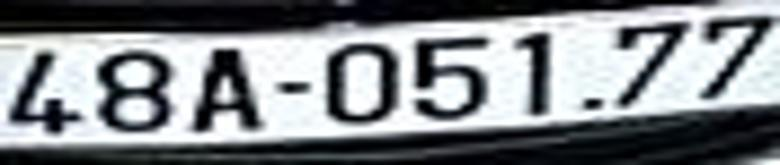-: (275, 82, 309, 93)
.: (586, 99, 602, 108)
0: (324, 44, 394, 123)
1: (517, 35, 550, 109)
4: (6, 54, 80, 137)
5: (414, 42, 485, 120)
7: (618, 24, 686, 108), (705, 19, 772, 103)
8: (98, 50, 171, 130)
A: (194, 49, 261, 128)
